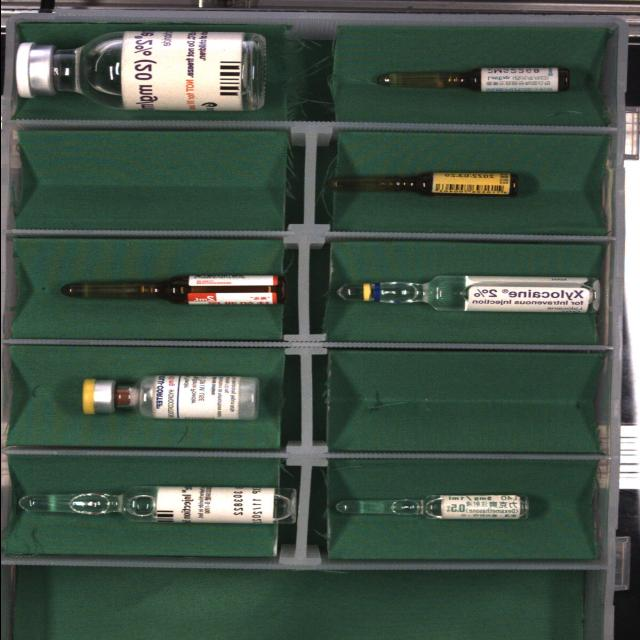Vials: (14, 31, 265, 110), (81, 376, 258, 419)
